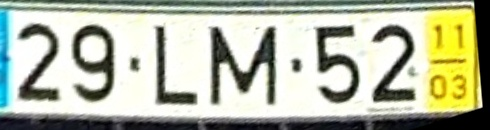2: (369, 20, 418, 103), (15, 20, 62, 103)
5: (314, 22, 362, 107)
9: (69, 21, 116, 104)
L: (153, 24, 200, 108)
M: (207, 24, 278, 107)
